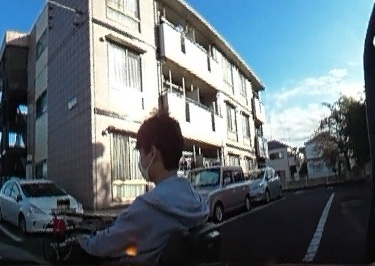person: (99, 115, 206, 266)
